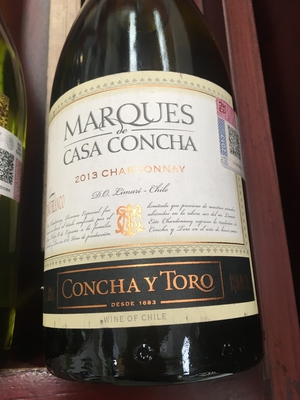marques de casa concha chardonnay: (49, 90, 257, 367)
